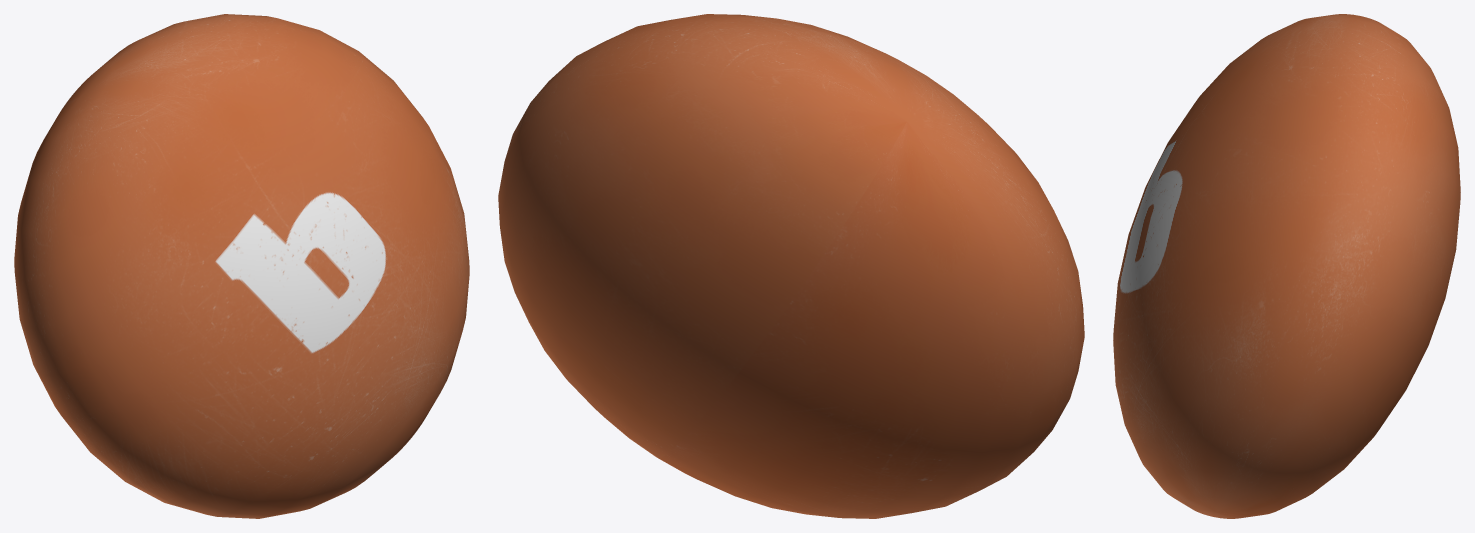
Rendered from b&b_candyshell_orange.glb.
The picture shows the model from 3 angles, left to right: view 1: azimuth 30°, elevation 25°; view 2: azimuth 150°, elevation 25°; view 3: azimuth 270°, elevation 25°; orthographic projection. The views are drawn at different scales.
Parts seen in each view (by area): view 1: b&b candy shell; view 2: b&b candy shell; view 3: b&b candy shell.
Boxes of the visible parts, x1,y1,x2,y2 form: b&b candy shell: [14, 14, 469, 518]; b&b candy shell: [498, 14, 1084, 518]; b&b candy shell: [1113, 14, 1460, 518].
Size of the model in its own units: 1.99 by 1.89 by 1.33.
Materials: 1 (1 with a texture image).
